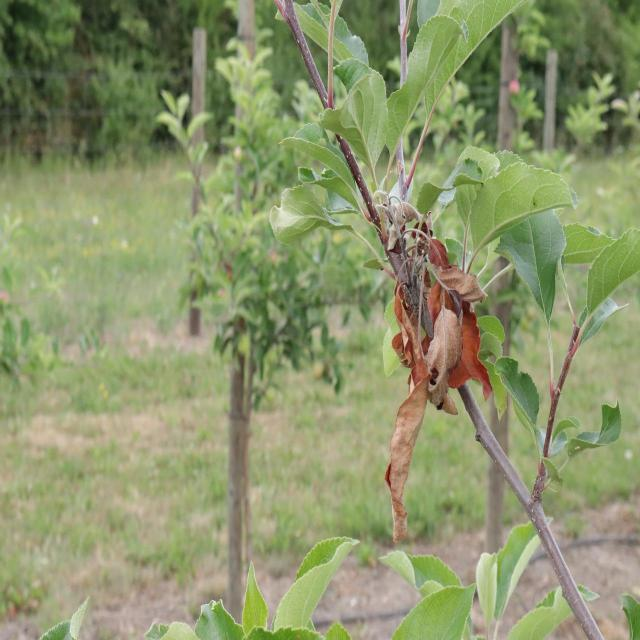-FireBlight-: (366, 190, 496, 537)
